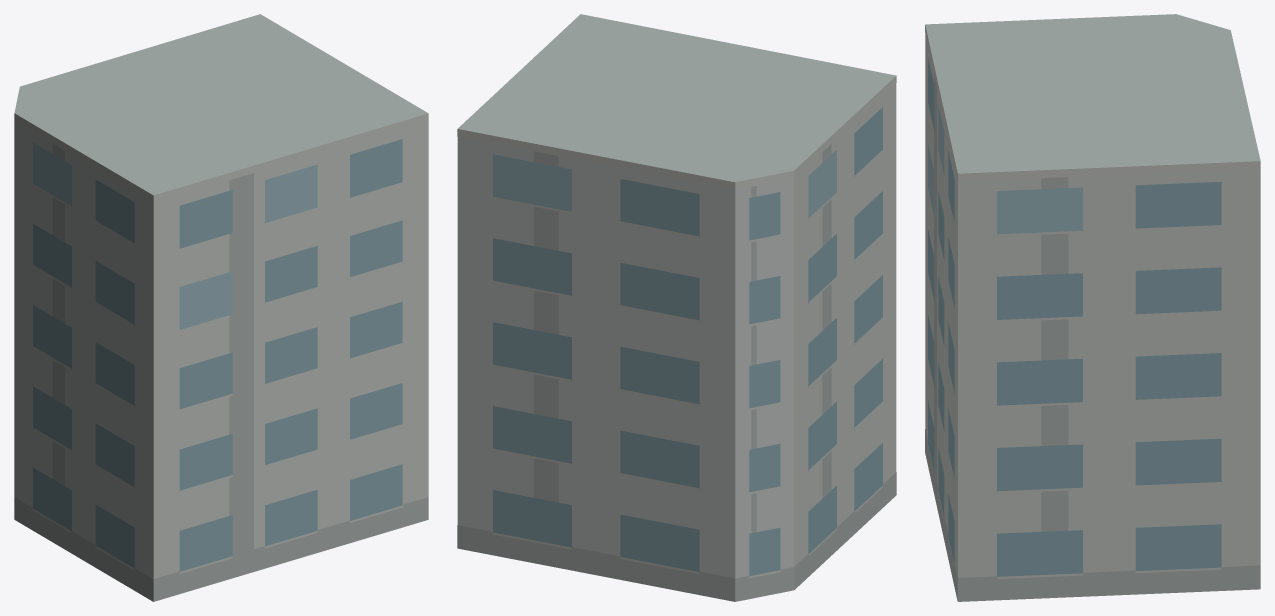
File: survey-upis-32637556.glb
3 views of the same model, side by side, from view 1: azimuth 30°, elevation 25°; view 2: azimuth 150°, elevation 25°; view 3: azimuth 270°, elevation 25° (orthographic). The views are drawn at different scales.
Visible parts, largest first — view 1: survey-upis-32637556.tmp; view 2: survey-upis-32637556.tmp; view 3: survey-upis-32637556.tmp.
Boxes of the visible parts, left/top/right/bottom form: survey-upis-32637556.tmp: left=14, top=14, right=428, bottom=601; survey-upis-32637556.tmp: left=457, top=14, right=896, bottom=601; survey-upis-32637556.tmp: left=925, top=14, right=1260, bottom=601.
Bounding box in the file's own units: 10.49 × 13.1 × 9.31.
